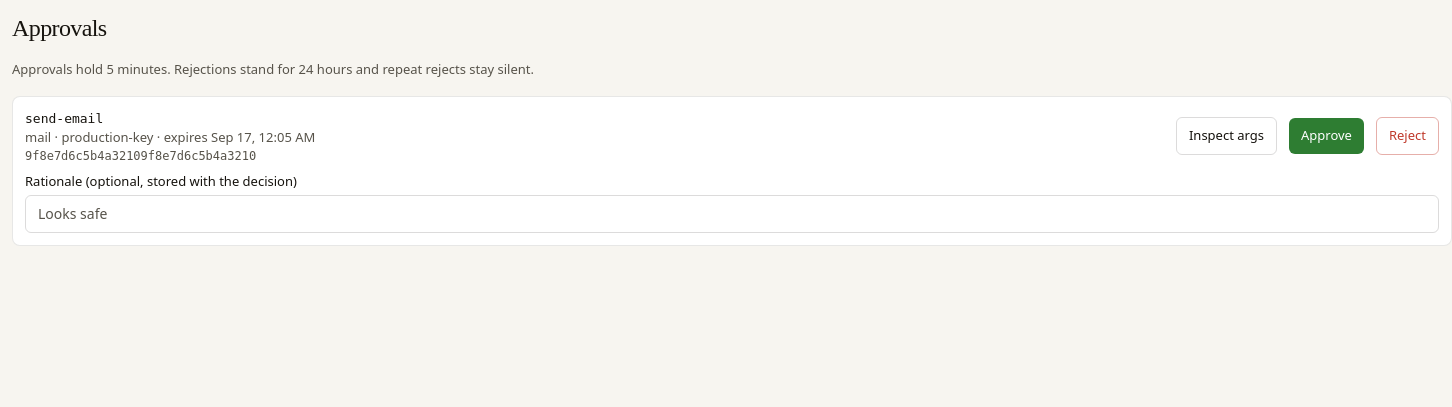
Test: ApprovalsPage › inspects decrypted args before deciding
Click the button "Inspect args": x=1226, y=136 [1176,117,1277,155]
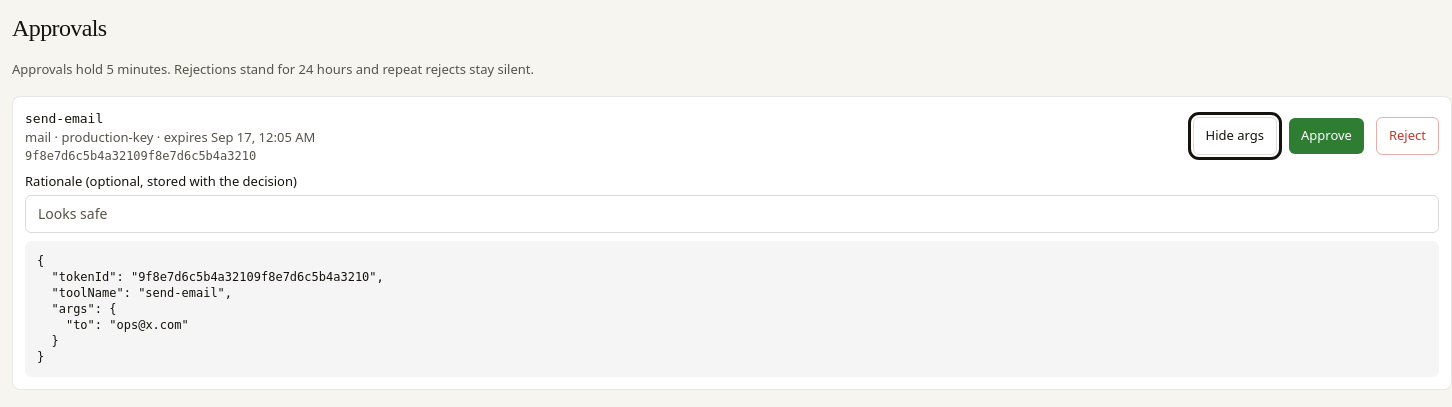
Expected: the text "ops@x.com" is shown, [37,254,384,364]
Click the button "Hide args": x=1235, y=136 [1192,117,1277,155]
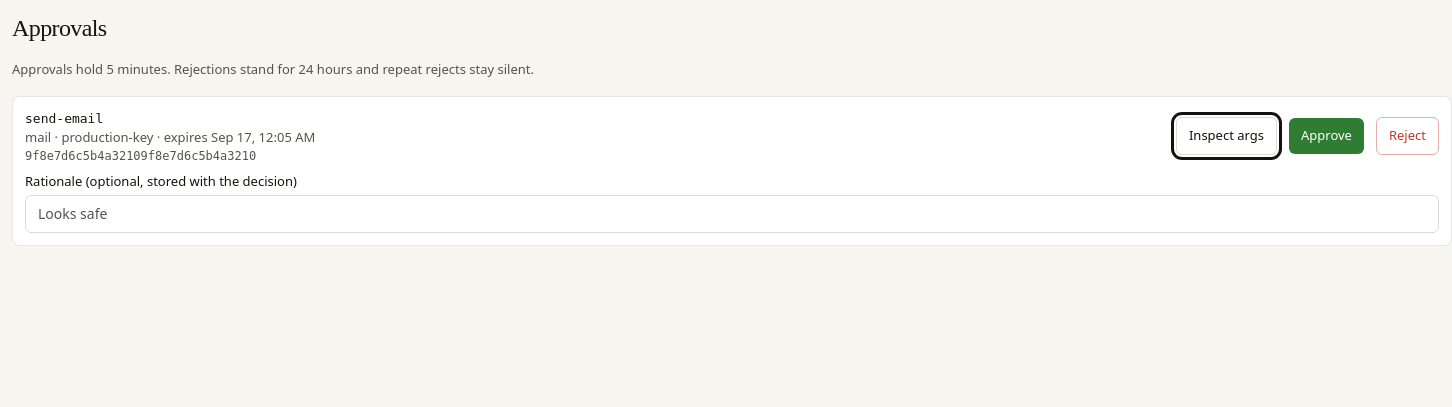
Expected: the text "ops@x.com" is gone
